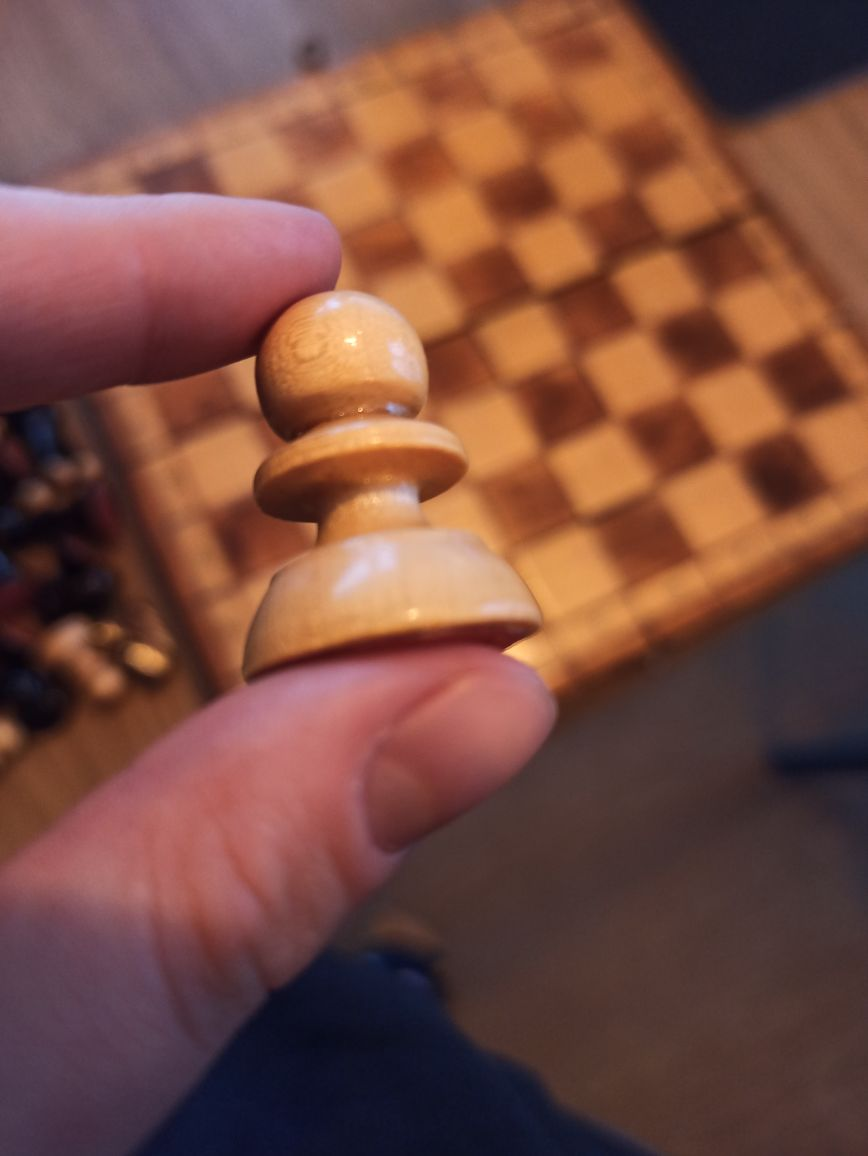wpawn: (245, 289, 540, 681)
